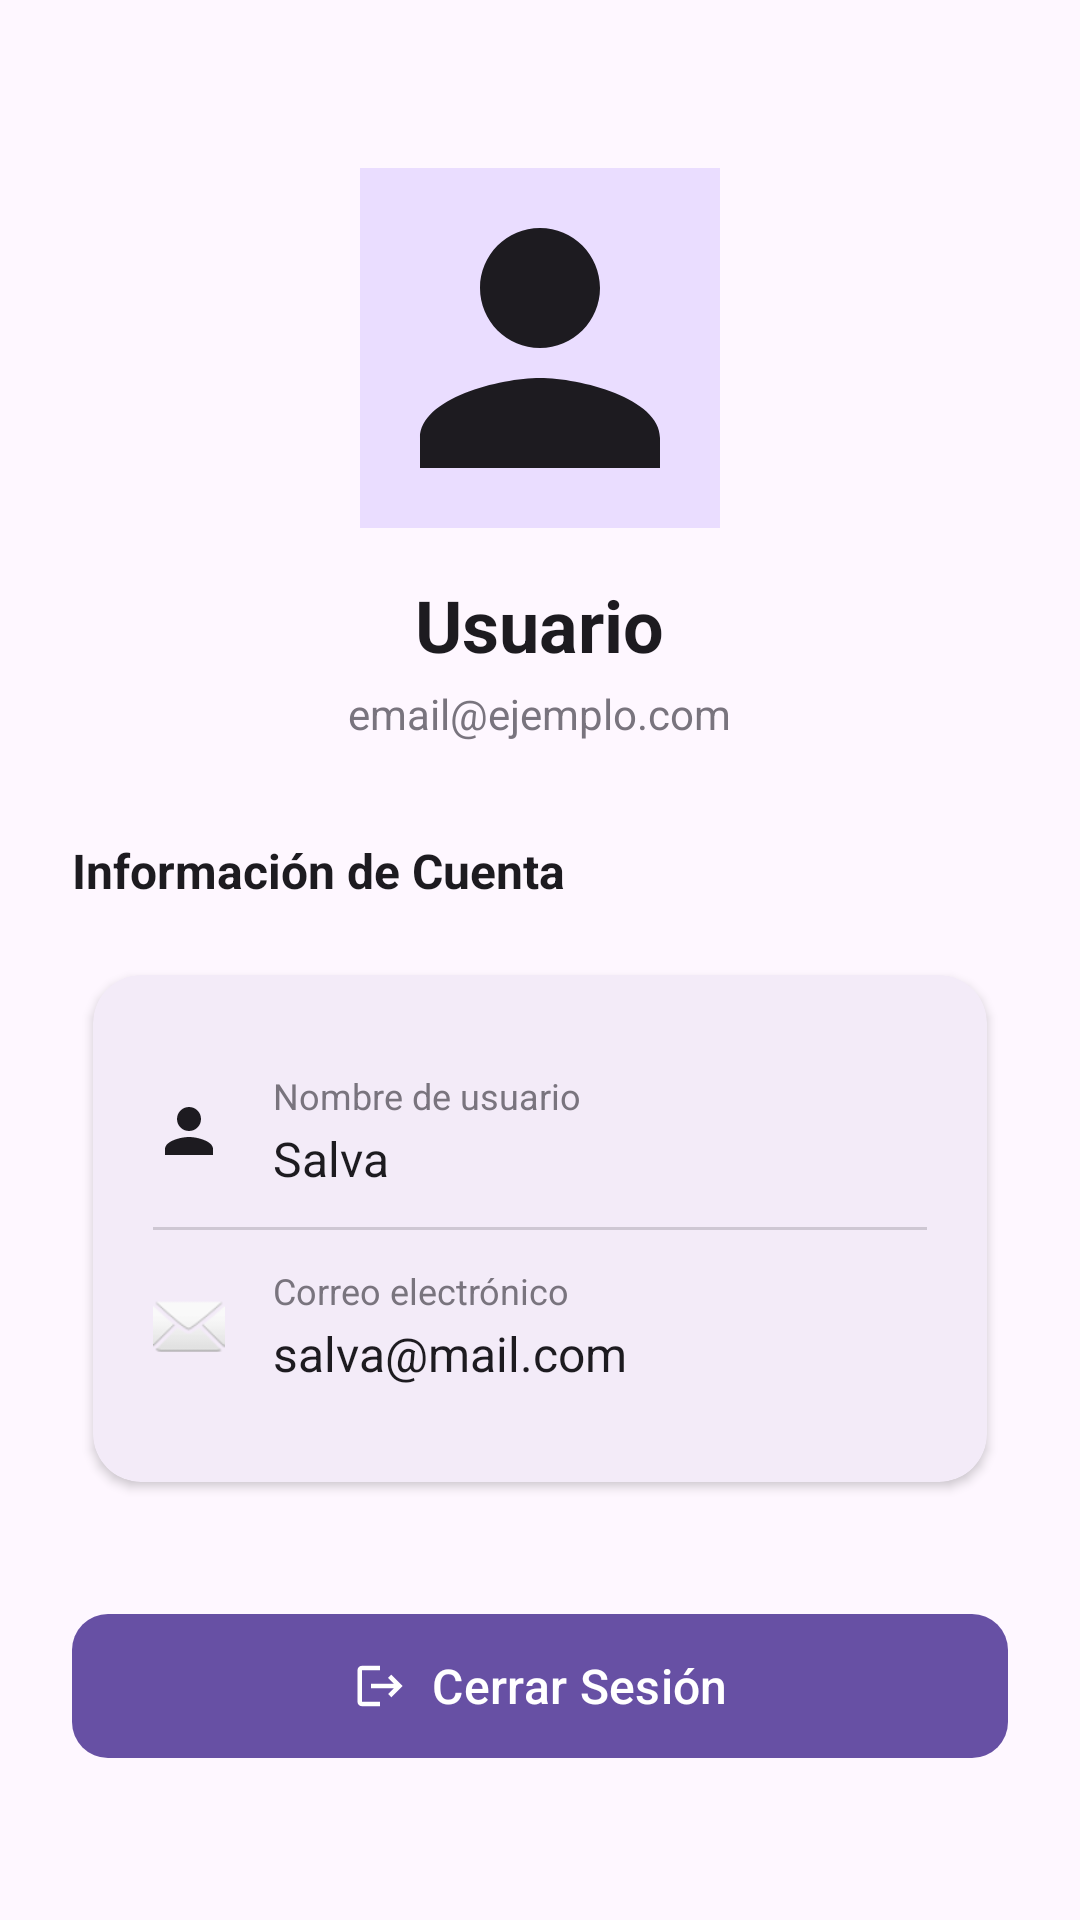

Screen size 1080 x 1920. Icon name, then its box in pixels as (x1, y1, x2, y2):
Email: (153, 1302, 225, 1352)
